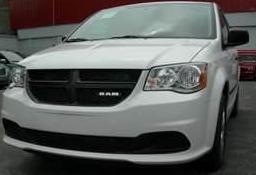front_view: (5, 64, 216, 154)
headlight: (143, 62, 211, 97)
